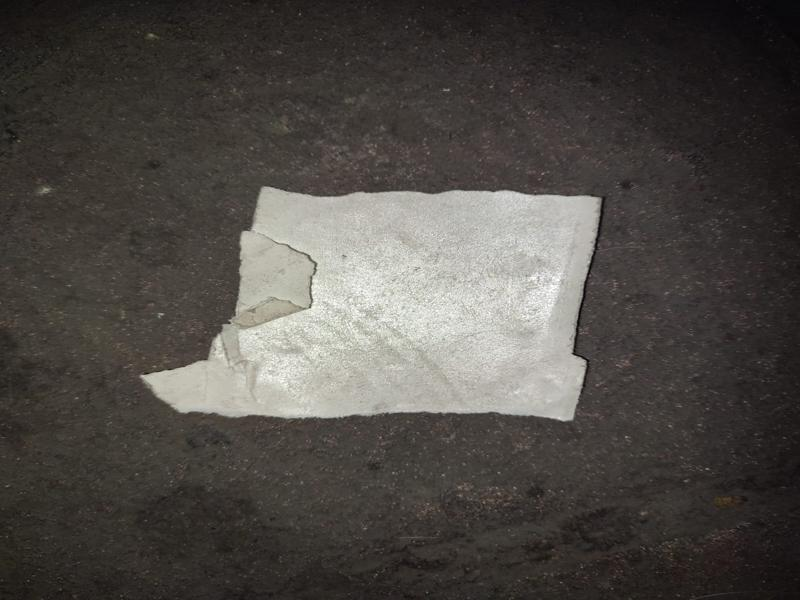papel: (143, 187, 605, 424)
